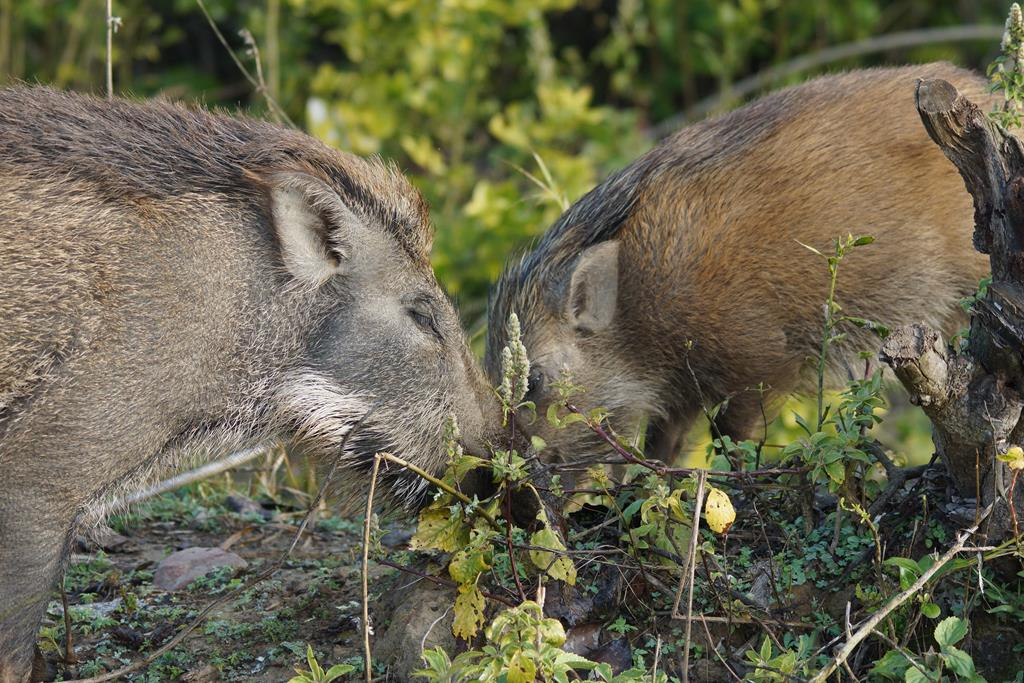wild boar: (1, 62, 587, 634), (474, 59, 1024, 496)
